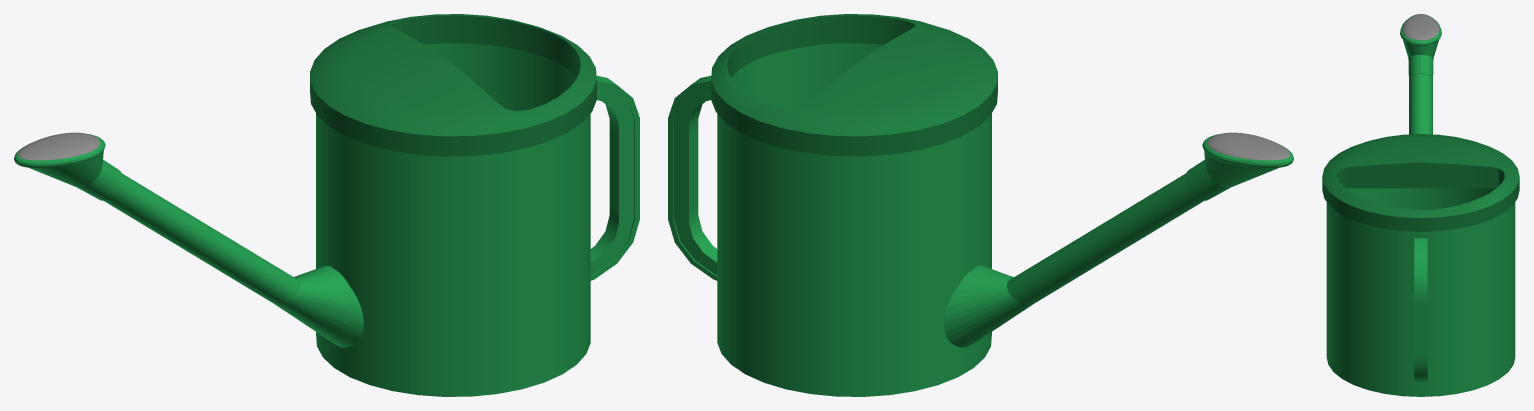
File: watering_can2.fbx
3 renders of one model, left to right at view 1: azimuth 30°, elevation 25°; view 2: azimuth 150°, elevation 25°; view 3: azimuth 270°, elevation 25°, orthographic. The views are drawn at different scales.
Visible parts, largest first — view 1: Sphere; view 2: Sphere; view 3: Sphere.
Part boxes in pixels (x1,y1,x2,y2): Sphere: [14, 14, 639, 396]; Sphere: [668, 14, 1293, 396]; Sphere: [1322, 14, 1519, 396].
Size of the model in its own units: 448 by 202 by 180.
